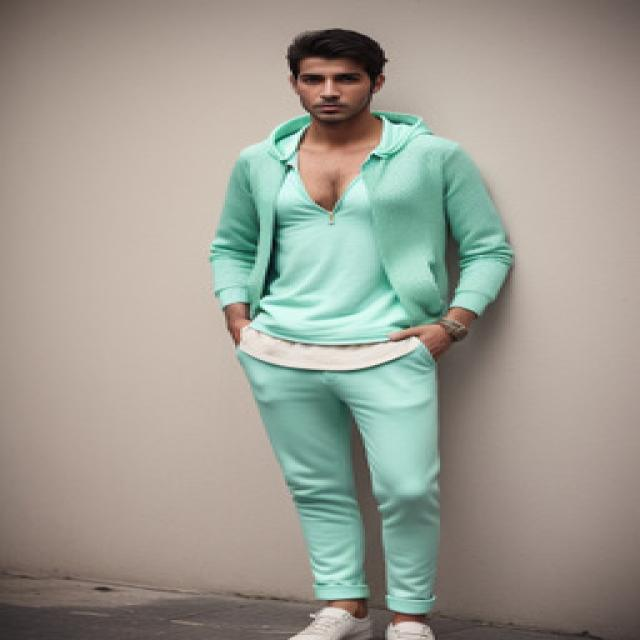Ai human 2: (205, 18, 523, 640)
